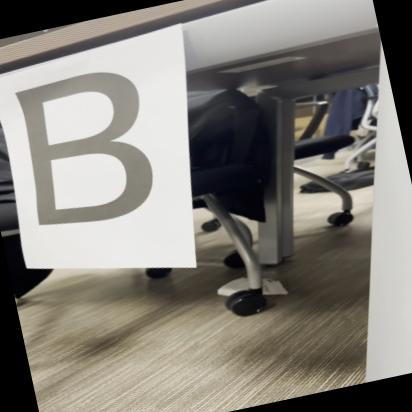seat: (0, 56, 181, 245)
